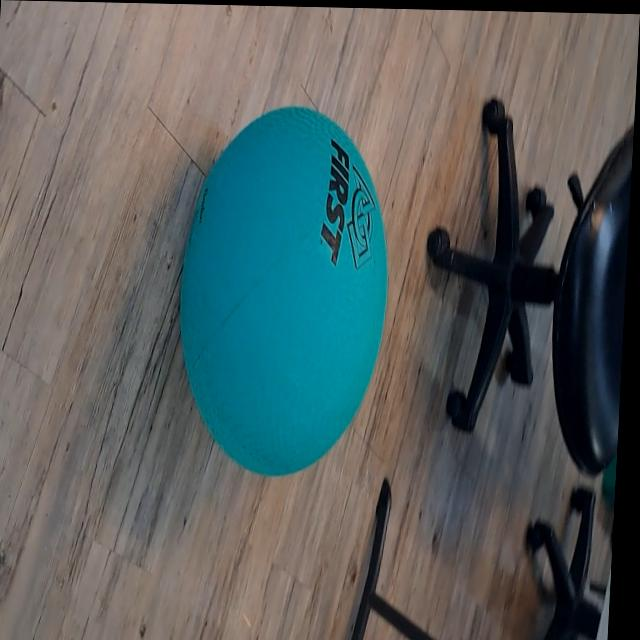ALGAE: (169, 101, 398, 480)
